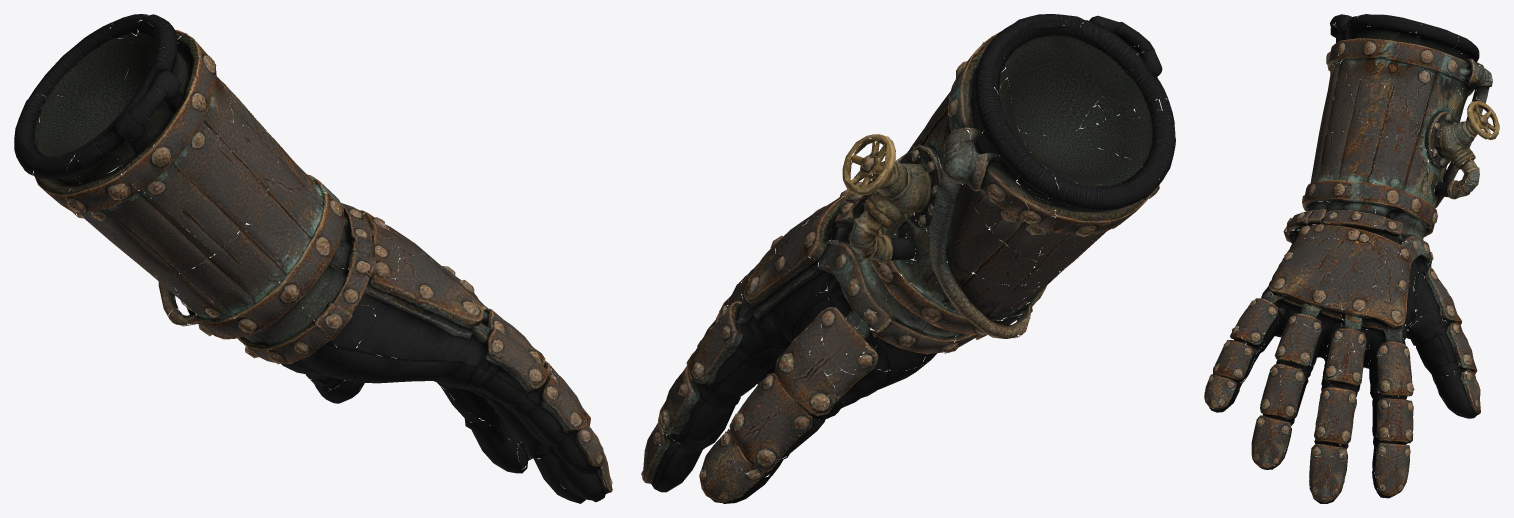
File: a_sluice_gauntlet.glb
3 renders of one model, left to right at view 1: azimuth 30°, elevation 25°; view 2: azimuth 150°, elevation 25°; view 3: azimuth 270°, elevation 25°, orthographic. The views are drawn at different scales.
Parts seen in each view (by area): view 1: tripo_node_b14e2996-0eb6-48ed-994d-9695298e9ffa; view 2: tripo_node_b14e2996-0eb6-48ed-994d-9695298e9ffa; view 3: tripo_node_b14e2996-0eb6-48ed-994d-9695298e9ffa.
Part boxes in pixels (x1,y1,x2,y2): tripo_node_b14e2996-0eb6-48ed-994d-9695298e9ffa: (14, 14, 612, 503); tripo_node_b14e2996-0eb6-48ed-994d-9695298e9ffa: (641, 14, 1175, 503); tripo_node_b14e2996-0eb6-48ed-994d-9695298e9ffa: (1204, 14, 1499, 503).
Size of the model in its own units: 0.9799 by 0.9795 by 0.7193.
Materials: 1 (1 with a texture image).
